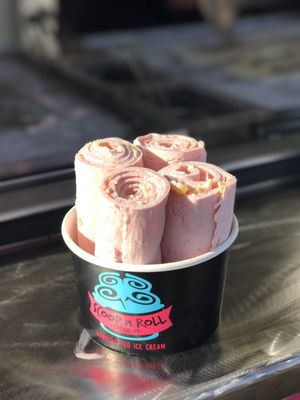pizza: (60, 145, 239, 363)
